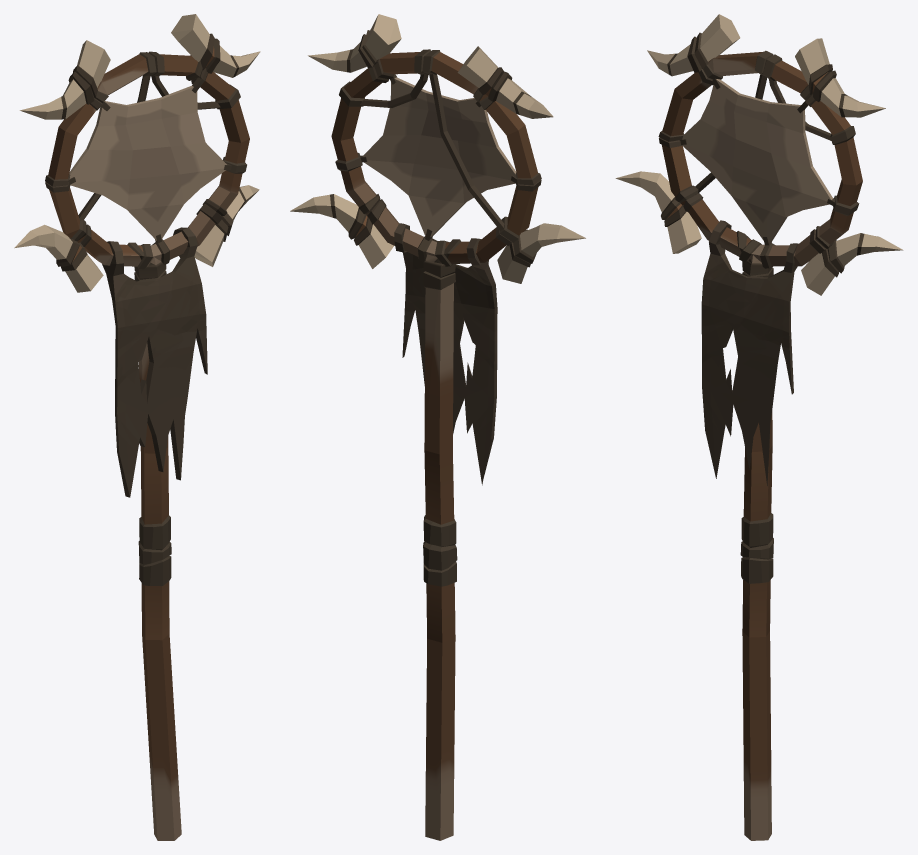
File: bog_flag.gltf
3 renders of one model, left to right at view 1: azimuth 30°, elevation 25°; view 2: azimuth 150°, elevation 25°; view 3: azimuth 330°, elevation 25°, orthographic. The views are drawn at different scales.
Visible parts, largest first — view 1: bog_flag; view 2: bog_flag; view 3: bog_flag.
Part boxes in pixels (x1,y1,x2,y2): bog_flag: [14, 14, 260, 840]; bog_flag: [290, 14, 585, 840]; bog_flag: [615, 14, 903, 840].
Bounding box in the file's own units: 0.7633 × 2.18 × 0.1781.
Materials: 2 (2 with a texture image).
